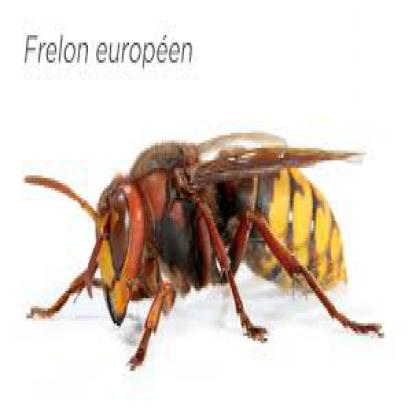european: (26, 113, 393, 393)
